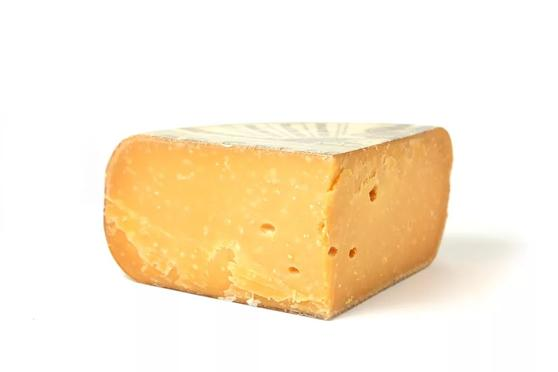cheese: (88, 114, 454, 315)
